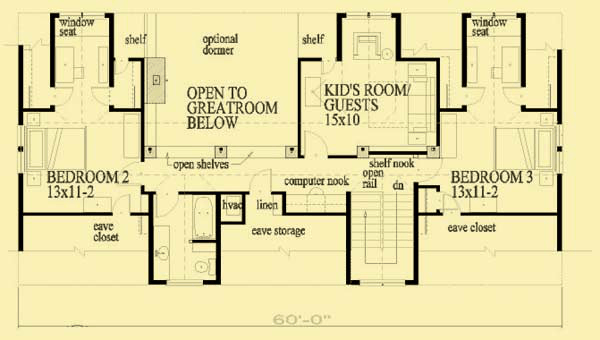bed: (493, 123, 559, 175), (22, 124, 88, 173)
door: (303, 129, 331, 160), (154, 189, 180, 218), (247, 166, 272, 196), (51, 84, 76, 109), (462, 84, 487, 109), (498, 84, 526, 106), (89, 84, 115, 107), (439, 193, 462, 218), (112, 193, 132, 216), (318, 54, 336, 75)
large sink: (193, 255, 218, 278)
large sofa: (406, 76, 436, 135)
small sink: (151, 224, 172, 278)
small sofa: (350, 29, 384, 63)
stairs: (350, 183, 416, 282)
tub: (189, 194, 215, 244)
windows: (343, 8, 393, 22), (57, 8, 107, 20)
